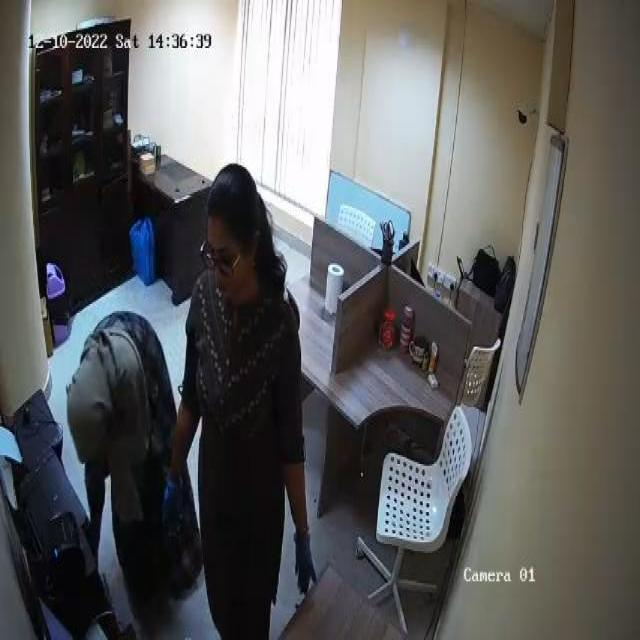gloved_hand: (157, 471, 187, 548), (292, 524, 318, 597)
